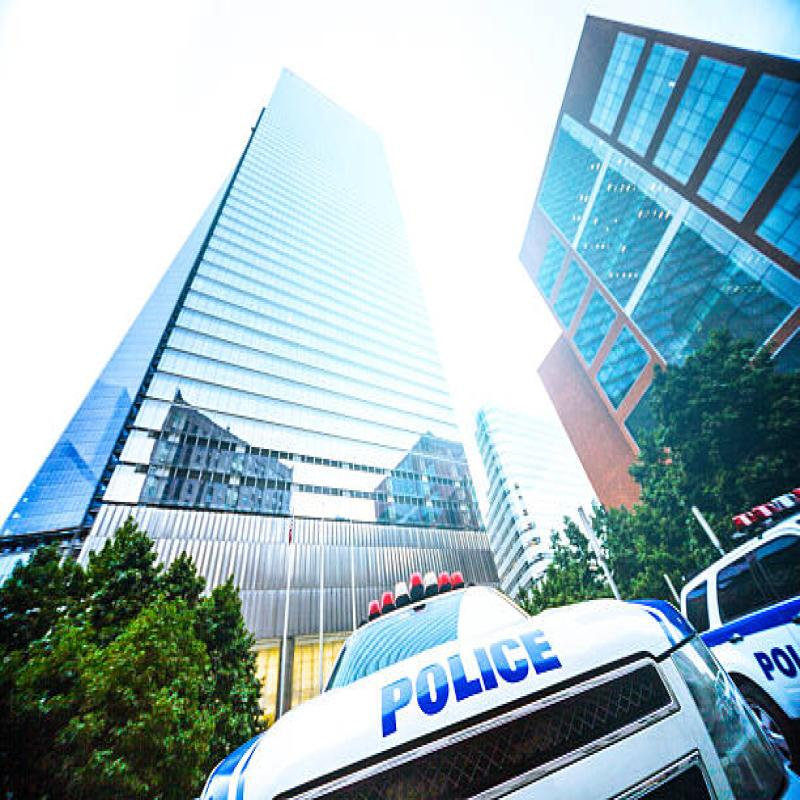AmbulanceSiren: (359, 575, 469, 606)
